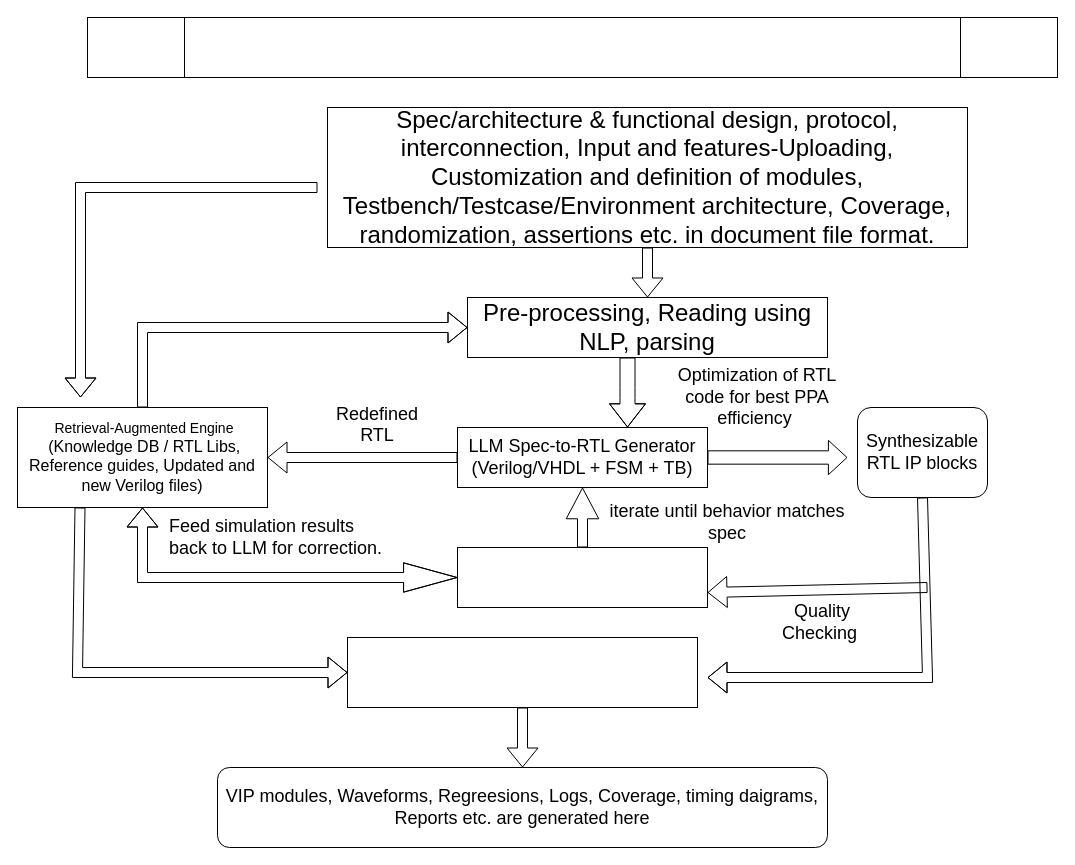
Some shapes in this 1075 by 865 pixel diagram are drawn without their labels. The centre of each missing label's shape, as x and y in pixels:
Automated front end VLSI design AI tool using LLM RAG: the point at 572,47
Postprocessing (Lint, Style, Synthesis Check, STA, CDC): the point at 582,577
Simulation & Verification using UVM, FV, SVA, SV.: the point at 522,672
